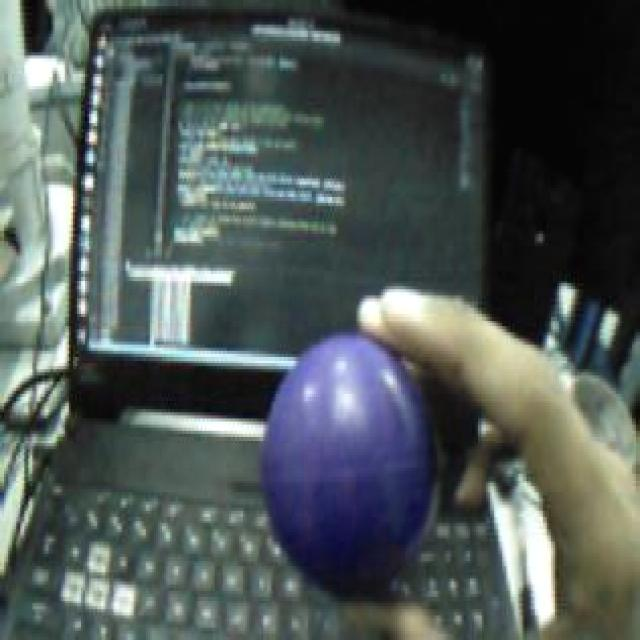BallPurple: (265, 331, 438, 595)
